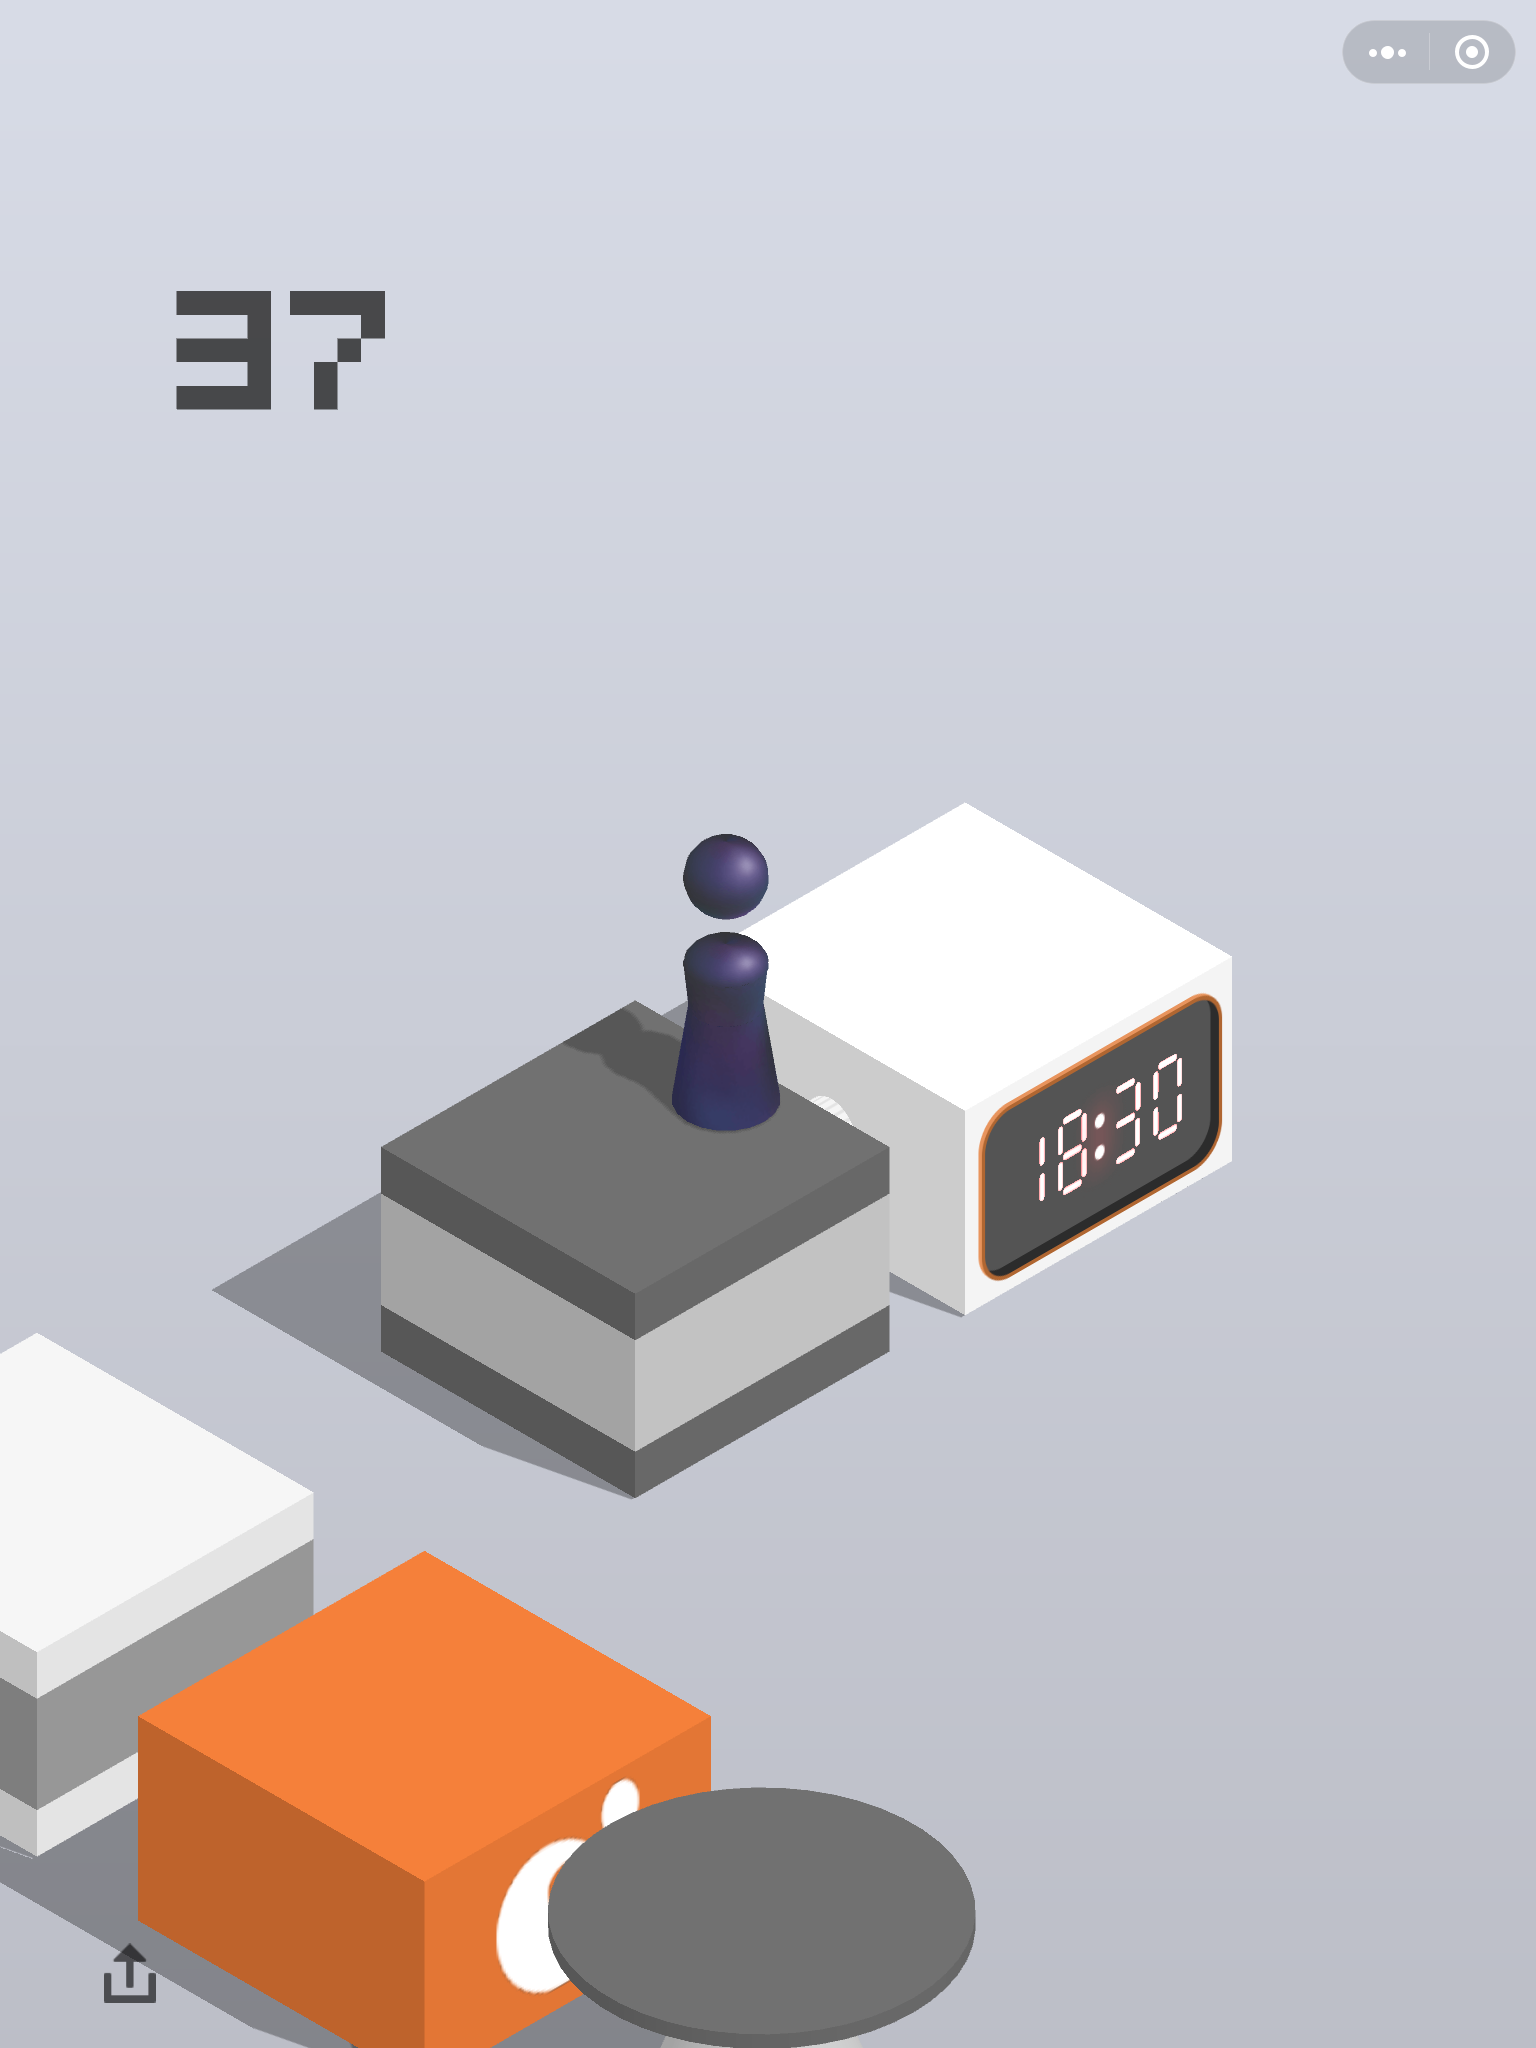c: (544, 1780, 981, 2048)
f: (132, 1546, 716, 2048), (715, 793, 1238, 1322), (373, 995, 899, 1505), (2, 1329, 323, 1859)
r: (670, 830, 787, 1135)
